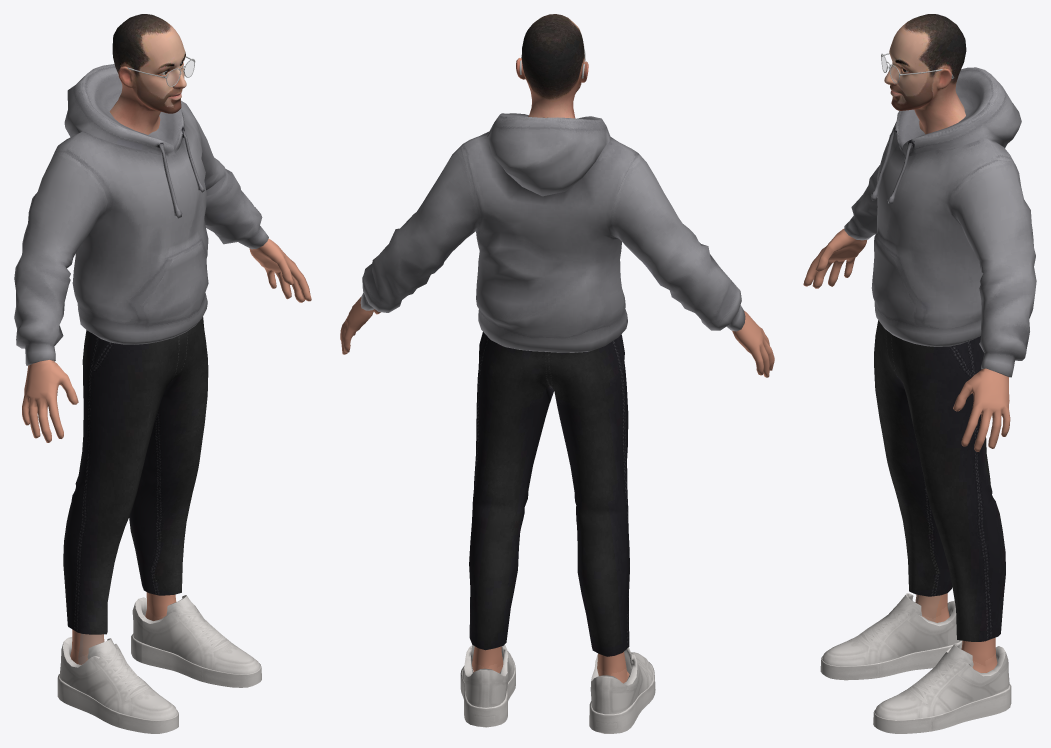
File: character.glb
3 renders of one model, left to right at view 1: azimuth 30°, elevation 25°; view 2: azimuth 150°, elevation 25°; view 3: azimuth 270°, elevation 25°, orthographic. The views are drawn at different scales.
Parts seen in each view (by area): view 1: Wolf3D_Avatar; view 2: Wolf3D_Avatar; view 3: Wolf3D_Avatar.
Boxes of the visible parts, x1,y1,x2,y2 form: Wolf3D_Avatar: (14,14,311,733); Wolf3D_Avatar: (340,14,774,733); Wolf3D_Avatar: (803,14,1036,733).
Bounding box in the file's own units: 0.7051 × 1.3 × 0.41.
Materials: 2 (2 with a texture image).
